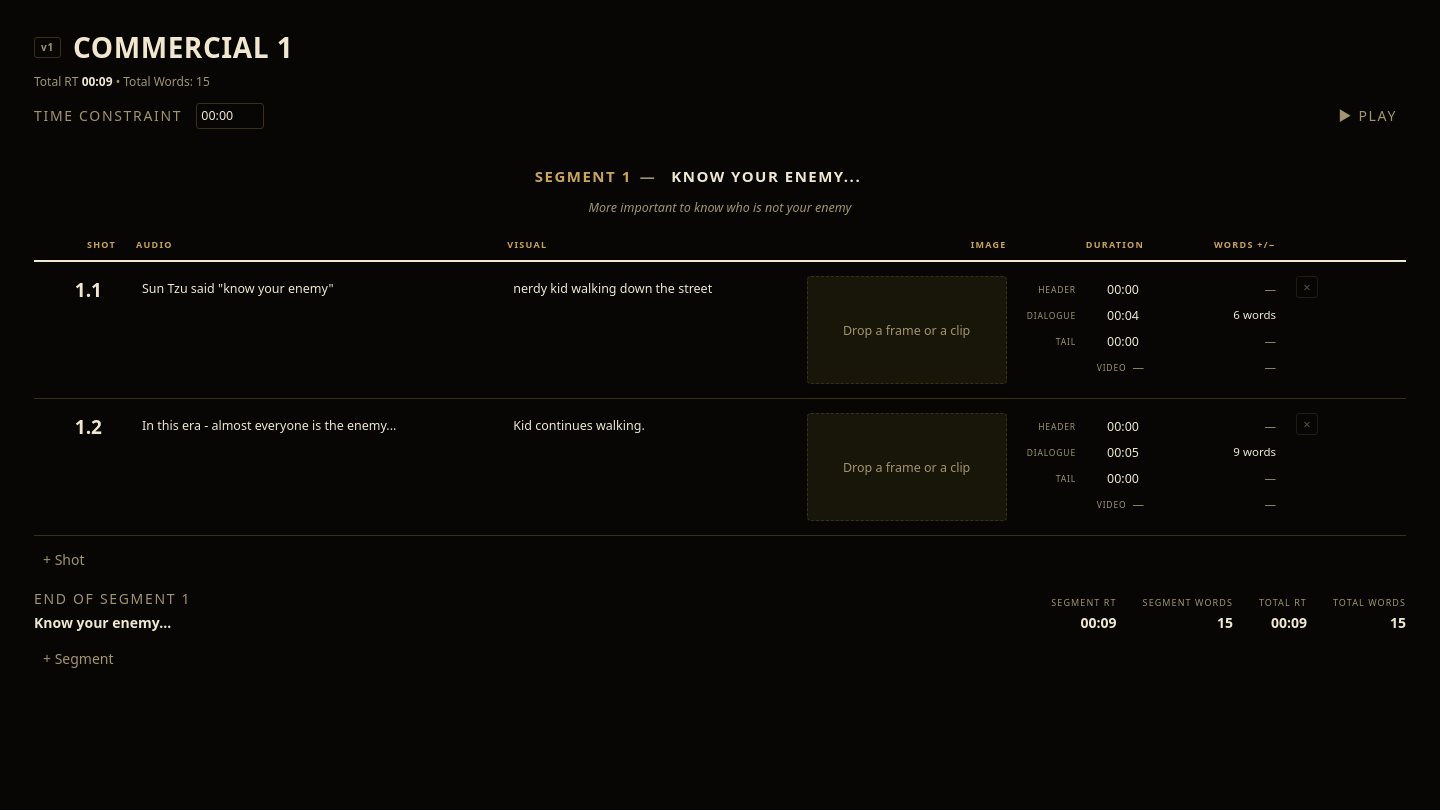
Test: writing in the sheet › asks before it closes a shot, and closes it when told
Click the button named "Close shot 1.1" at (1307, 287), box [1296, 276, 1318, 298]
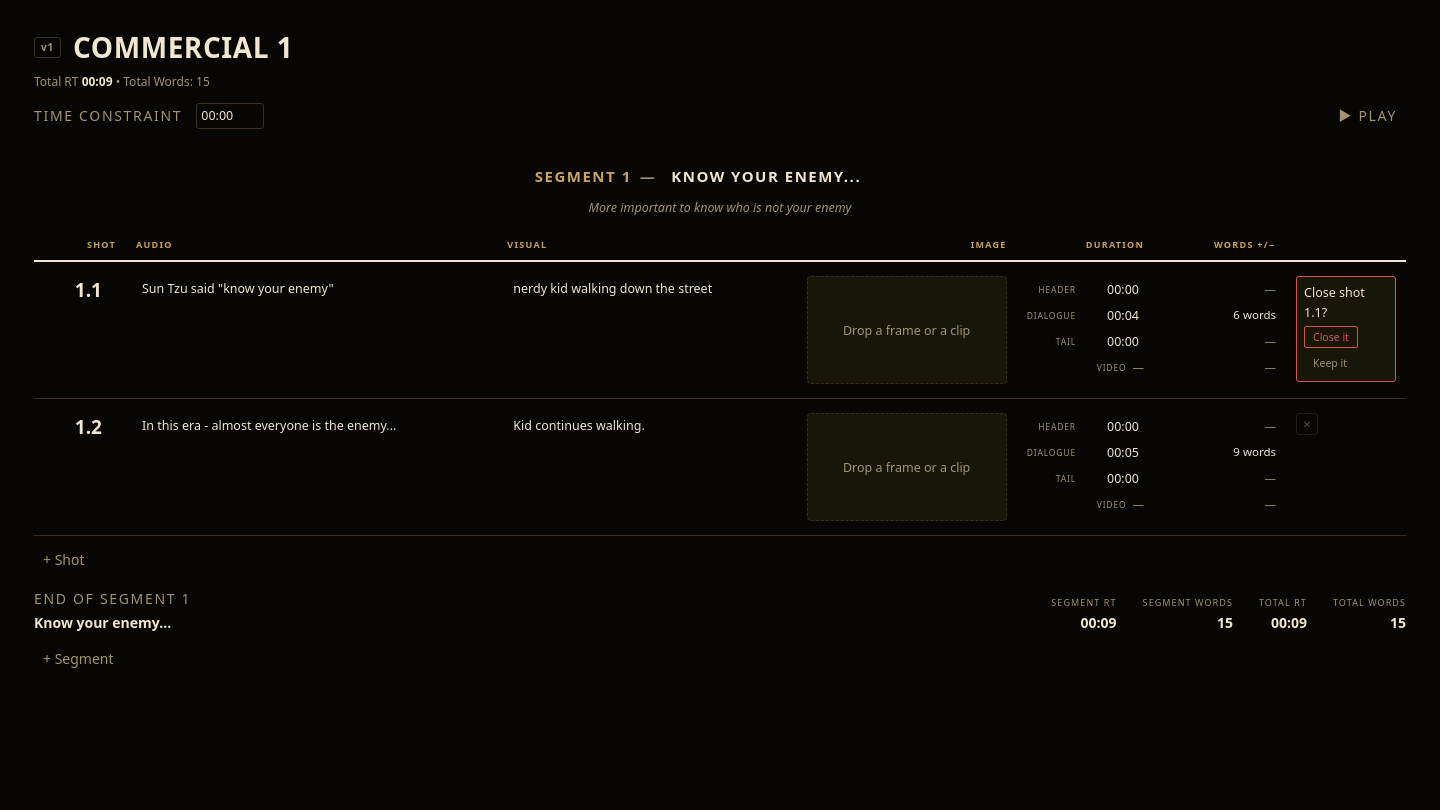
Expected: the number of rows with class "av-row" is 2, [34, 261, 1406, 399]; [34, 399, 1406, 536]
Result: the text "Close shot 1.1?" is shown at [1304, 284, 1365, 321]
Click the button "Close it" at (1331, 337), box [1304, 326, 1358, 348]
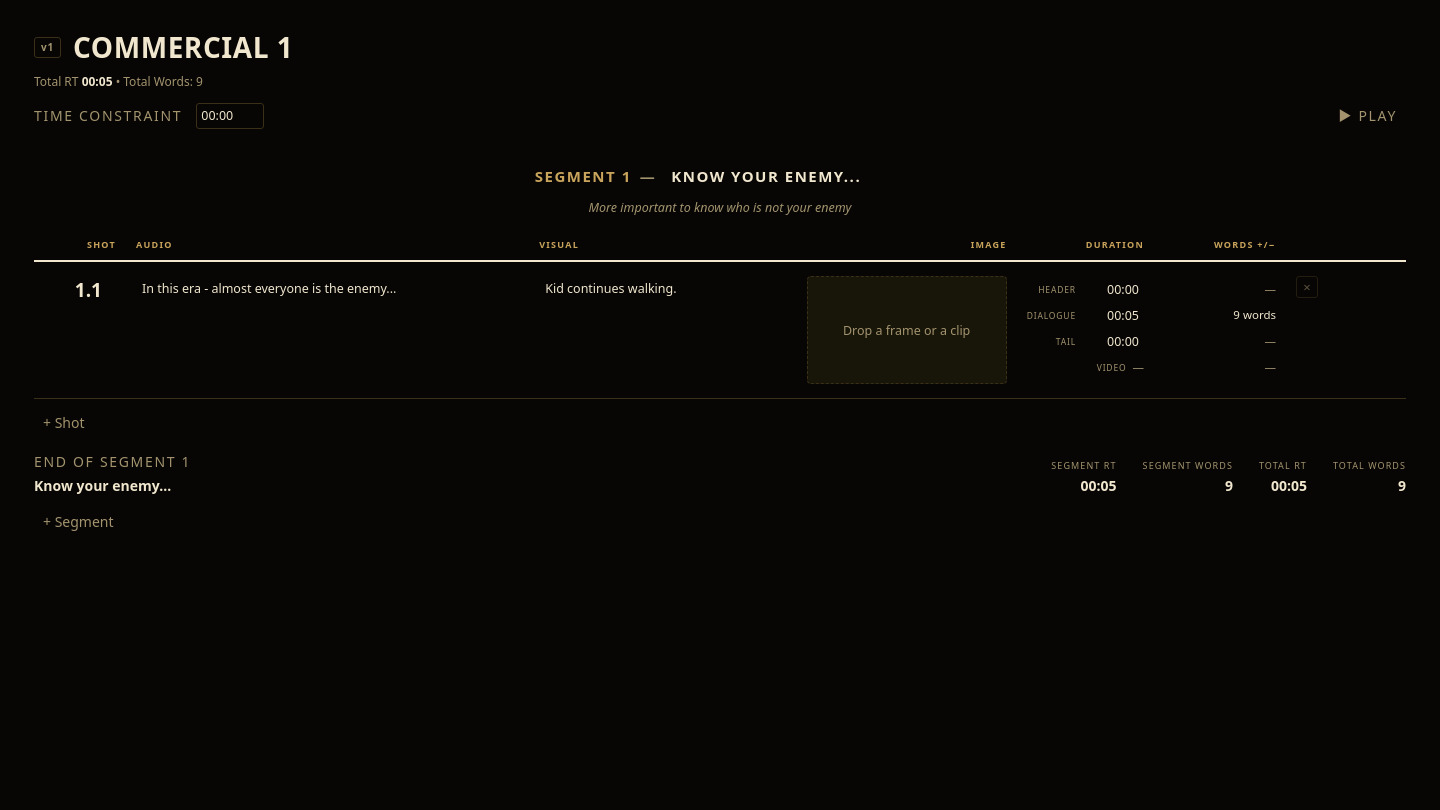
Expected: the text box named "What is heard in row 1.1" holds "In this era - almost everyone is the enemy...", [136, 276, 519, 320]
Result: the number of rows with class "av-row" is 1 at [34, 261, 1406, 399]
